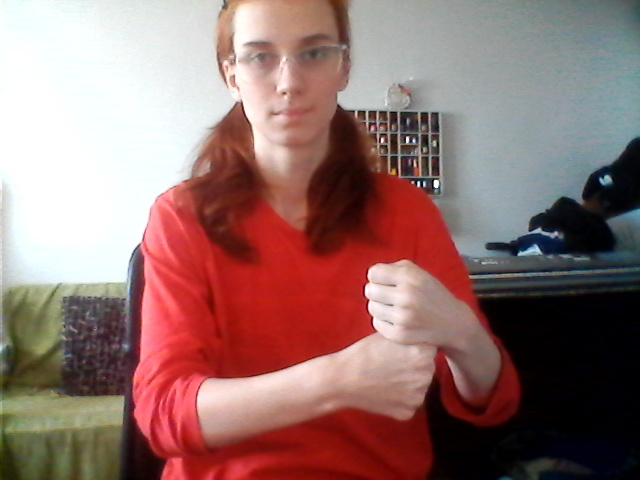g: (341, 255, 449, 424)
